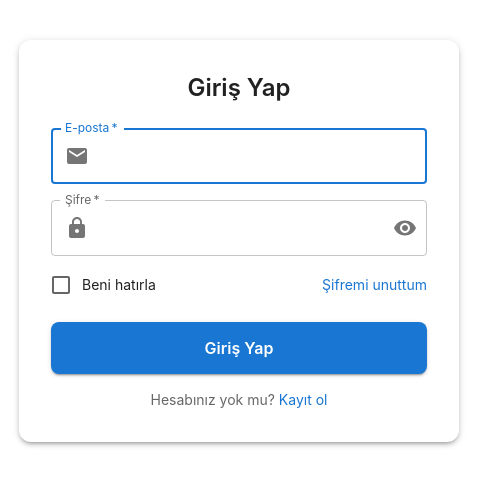
Login Flow (Turkish) › should show error for invalid email format
This screenshot has width=479, height=487.
Type "invalid-email" into the field named "email".
click(262, 156); type("invalid-email")  # box [97,128,427,184]
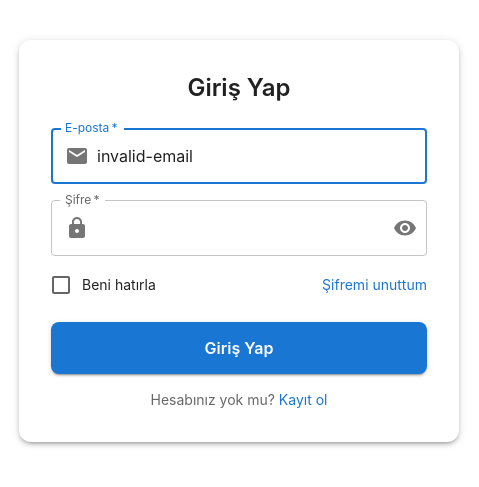
Click the submit button.
click(239, 348)  # box [51,322,427,374]
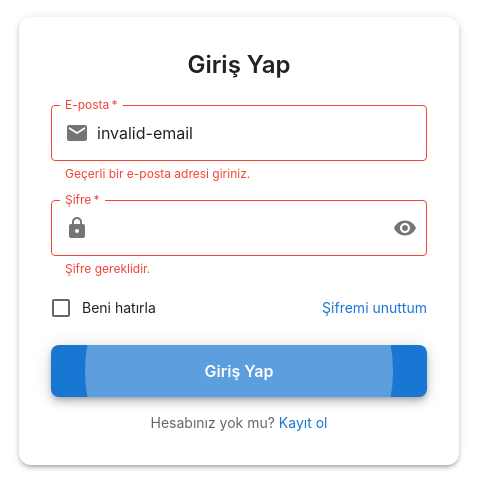
Check: the text "Geçerli bir e-posta adresi giriniz" is shown, box [65,166,250,181]
